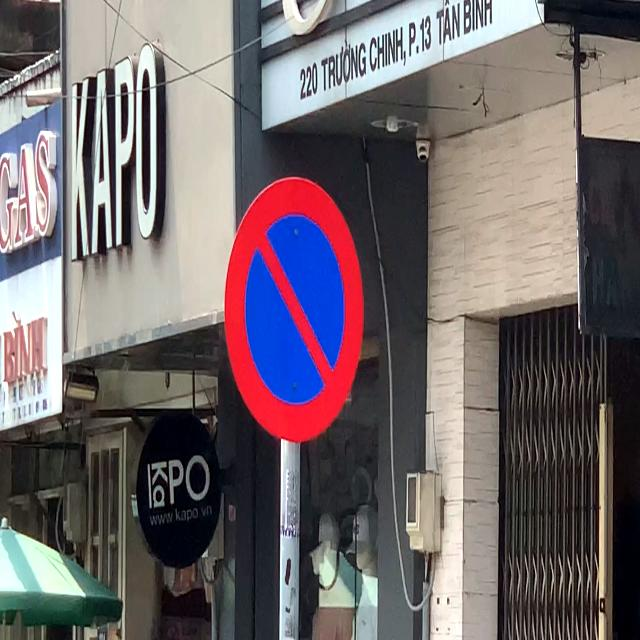P.131a: (224, 175, 366, 444)
